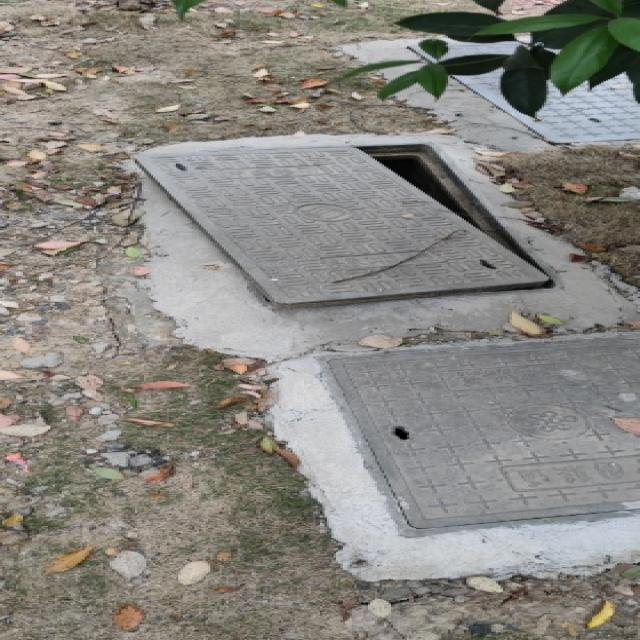Good: (273, 339, 640, 541), (356, 21, 640, 151)
Lose: (114, 130, 576, 329)
